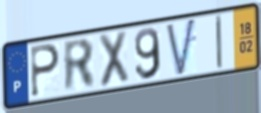9: (132, 26, 162, 82)
I: (214, 13, 225, 72)
P: (30, 42, 62, 99)
R: (62, 37, 98, 95)
V: (164, 15, 198, 79)
X: (97, 28, 131, 90)
